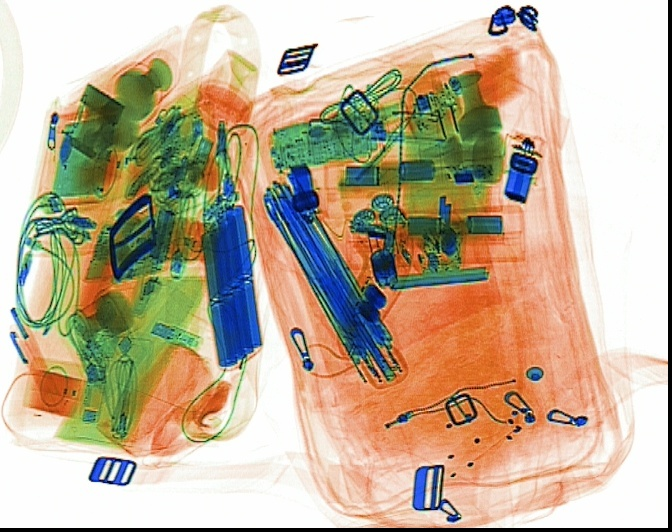powerbank: (193, 177, 263, 368)
